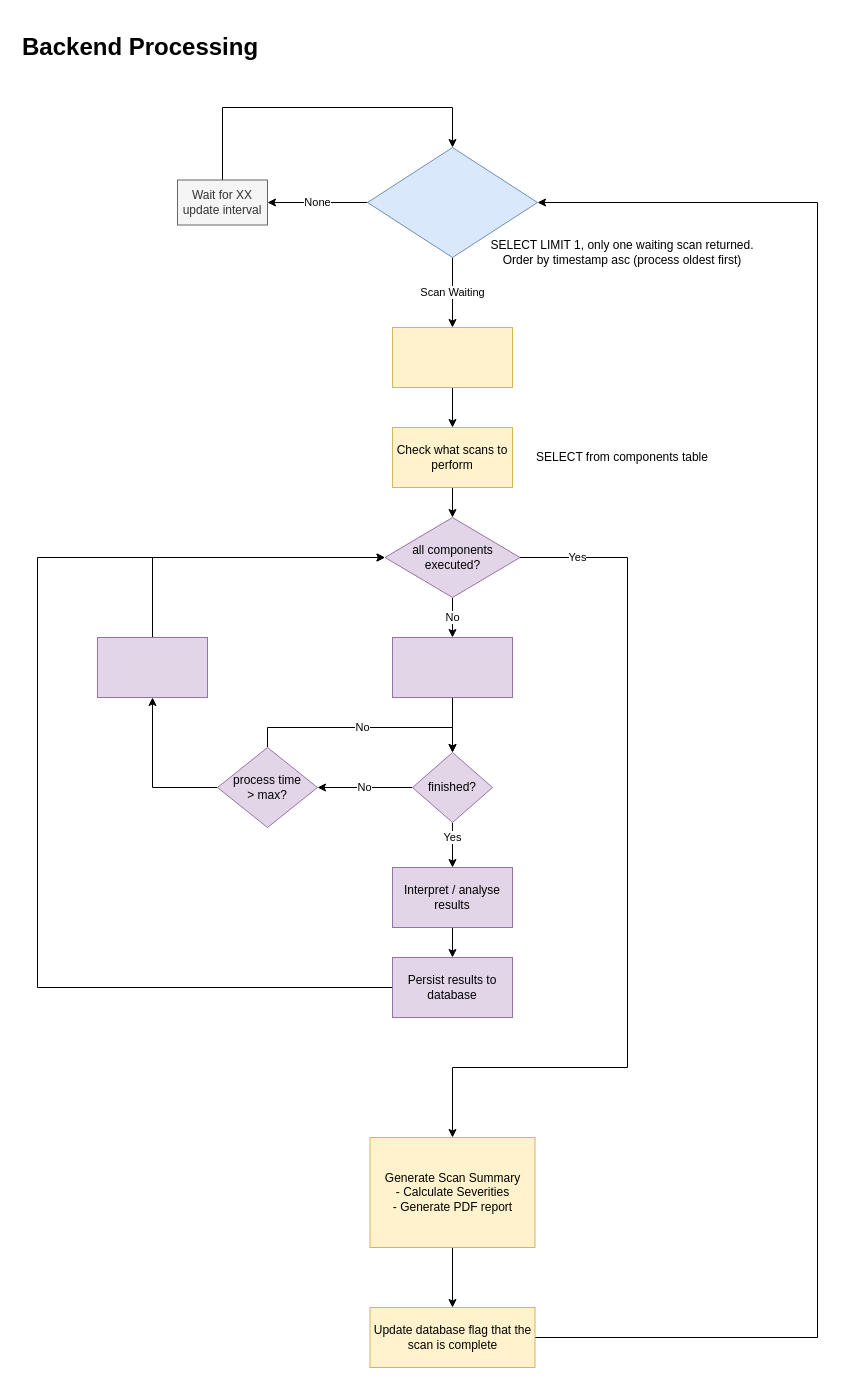
Some shapes in this 843 by 1385 pixel diagram are drawn without their labels. Here are the shapes that lost their labels. From the top down, the centre of each, then its label:
point (452, 202): Check for queued scans
point (452, 357): Update to Status flag to "in_progress"
point (152, 667): Log timeout error (in database) and move on
point (452, 667): foreach component, execute
